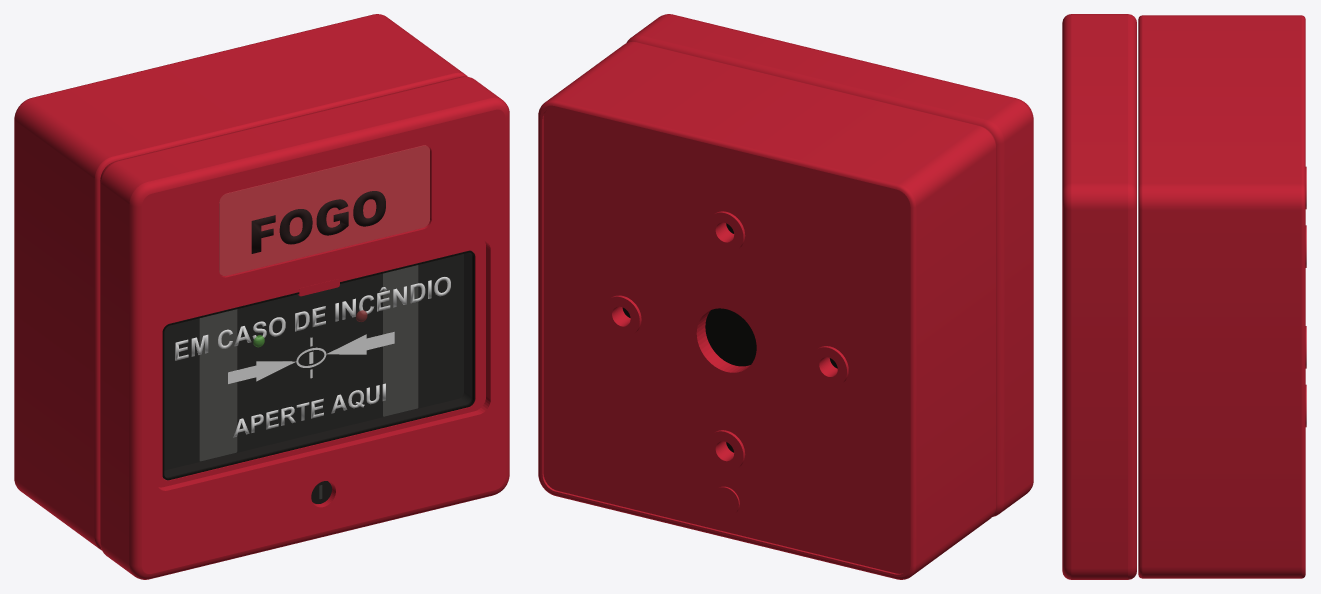
The model's file is push_button.glb.
The picture shows the model from 3 angles, left to right: view 1: azimuth 30°, elevation 25°; view 2: azimuth 150°, elevation 25°; view 3: azimuth 270°, elevation 25°; orthographic projection.
Visible parts, largest first — view 1: PBS_FrontCover, PBS_BackBox, PBS_Window_Tray, PBS_Label, PBS_Window_Band_L, PBS_Window_Band_R, PBS_Text_FOGO, PBS_Text_Incendio, PBS_Text_Aperte, PBS_Symbol_Arrow_R, PBS_Symbol_Arrow_L; view 2: PBS_BackBox, PBS_FrontCover, PBS_Back_Dark_cable, PBS_Back_Boss_hole_l, PBS_Back_Boss_hole_t, PBS_Back_Boss_hole_r, PBS_Back_Boss_hole_b, PBS_Back_Knockout; view 3: PBS_BackBox, PBS_FrontCover.
Part boxes in pixels (x1,y1,x2,y2): PBS_FrontCover: (100,76,509,579); PBS_BackBox: (14,14,467,550); PBS_Window_Tray: (162,250,474,480); PBS_Label: (219,145,429,275); PBS_Window_Band_L: (199,309,237,461); PBS_Window_Band_R: (383,265,418,416); PBS_Text_FOGO: (251,191,385,253); PBS_Text_Incendio: (175,276,450,360); PBS_Text_Aperte: (233,383,385,437); PBS_Symbol_Arrow_R: (326,332,394,354); PBS_Symbol_Arrow_L: (228,361,295,383); PBS_BackBox: (538,41,996,579); PBS_FrontCover: (626,14,1033,516); PBS_Back_Dark_cable: (705,308,756,366); PBS_Back_Boss_hole_l: (810,346,848,386); PBS_Back_Boss_hole_t: (706,211,745,252); PBS_Back_Boss_hole_r: (602,295,641,336); PBS_Back_Boss_hole_b: (706,430,745,470); PBS_Back_Knockout: (712,486,739,515); PBS_BackBox: (1138,15,1305,578); PBS_FrontCover: (1062,14,1136,579).
Size of the model in its own units: 0.086 by 0.086 by 0.0482.
